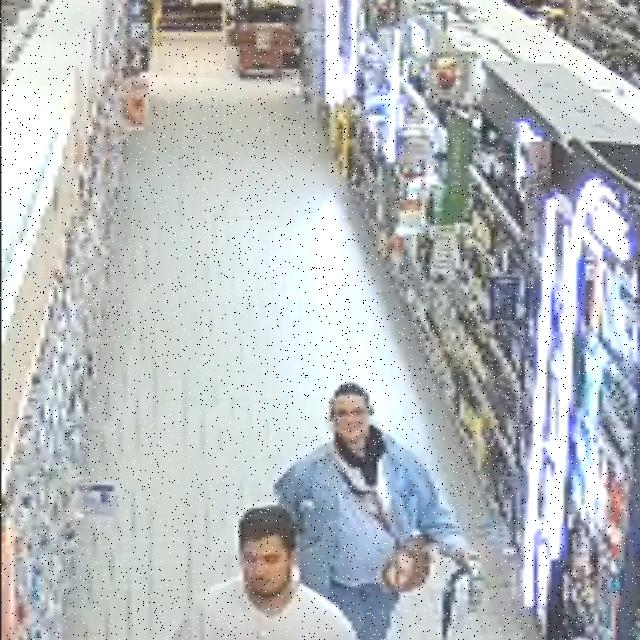article: (442, 566, 481, 639)
bags: (382, 537, 432, 592)
hands: (452, 550, 480, 571)
person: (275, 383, 475, 639), (174, 506, 355, 639)
